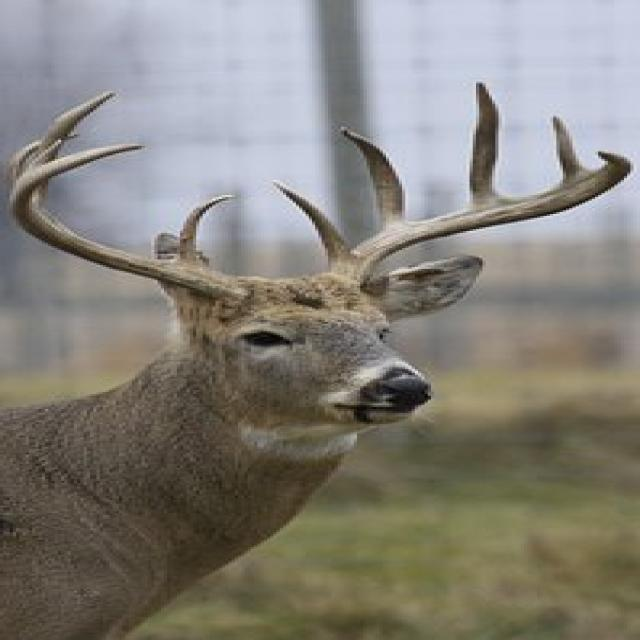L-F: (327, 150, 635, 280)
L-G1: (271, 180, 353, 260)
L-G2: (338, 125, 409, 231)
L-G3: (468, 80, 506, 205)
L-G4: (550, 114, 590, 182)
R-F: (8, 143, 248, 302)
R-G1: (173, 194, 239, 268)
